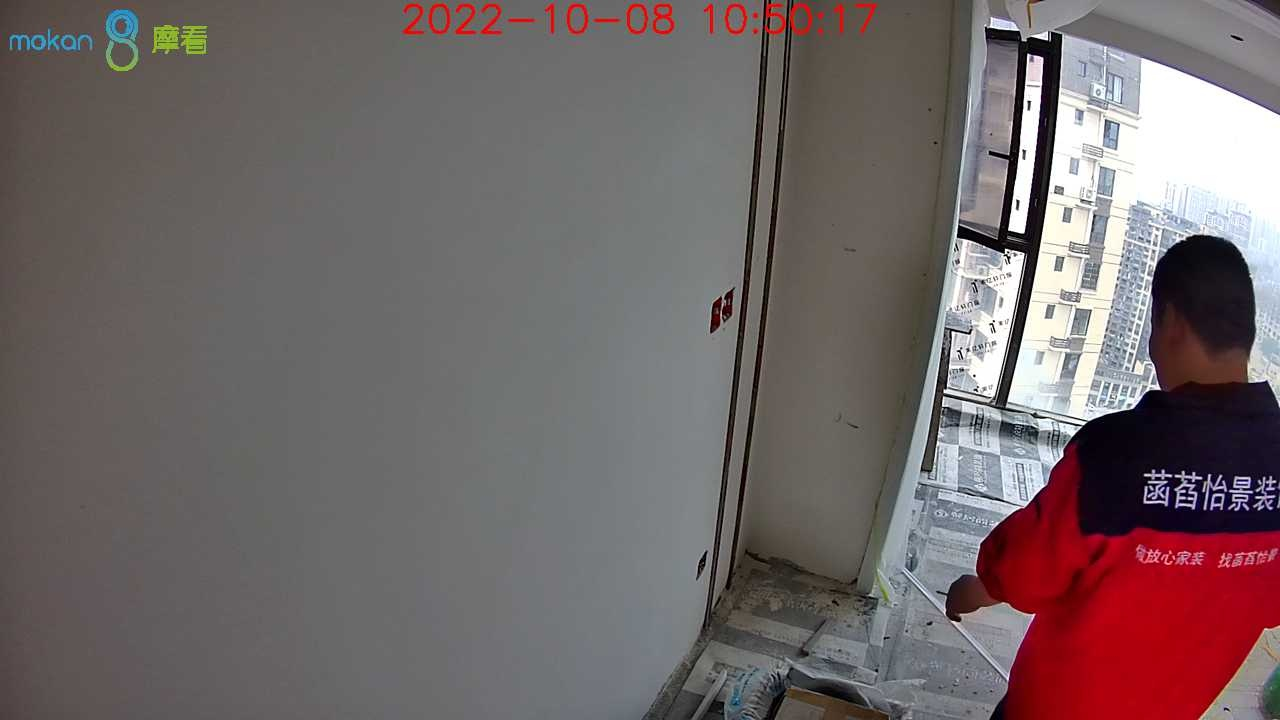people: (946, 234, 1277, 720)
window: (941, 22, 1280, 405)
